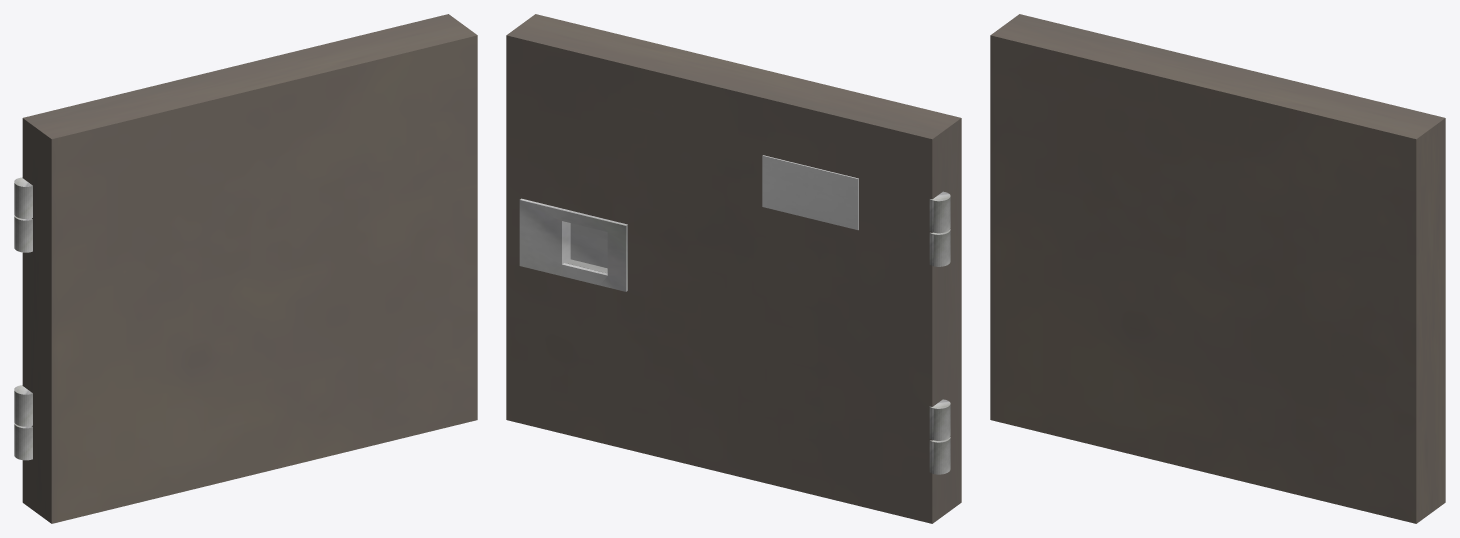
File: Shoe_locker_door_only_wt.fbx
The picture shows the model from 3 angles, left to right: view 1: azimuth 30°, elevation 25°; view 2: azimuth 150°, elevation 25°; view 3: azimuth 330°, elevation 25°; orthographic projection.
Visible parts, largest first — view 1: Door01, Hinge 04, Hinge 01, Hinge 03, Hinge 02; view 2: Door01, latch, name card, Hinge 04, Hinge 01, Hinge 03, Hinge 02; view 3: Door01.
Part boxes in pixels (<box>): Door01: <box>22,14,477,523</box>; Hinge 04: <box>14,385,32,426</box>; Hinge 01: <box>14,177,32,218</box>; Hinge 03: <box>14,423,32,460</box>; Hinge 02: <box>14,215,32,252</box>; Door01: <box>506,14,961,523</box>; latch: <box>519,198,627,291</box>; name card: <box>762,155,858,230</box>; Hinge 04: <box>929,399,950,440</box>; Hinge 01: <box>929,191,950,233</box>; Hinge 03: <box>929,437,950,474</box>; Hinge 02: <box>929,229,950,266</box>; Door01: <box>990,14,1445,523</box>.
Size of the model in its own units: 28.67 by 24.08 by 3.52.
3 materials, 3 textured.
